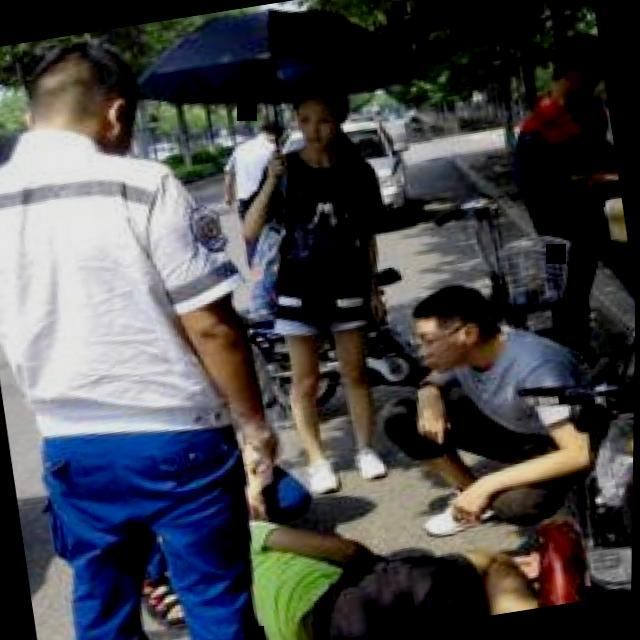Fall-Detected: (122, 443, 526, 640)
